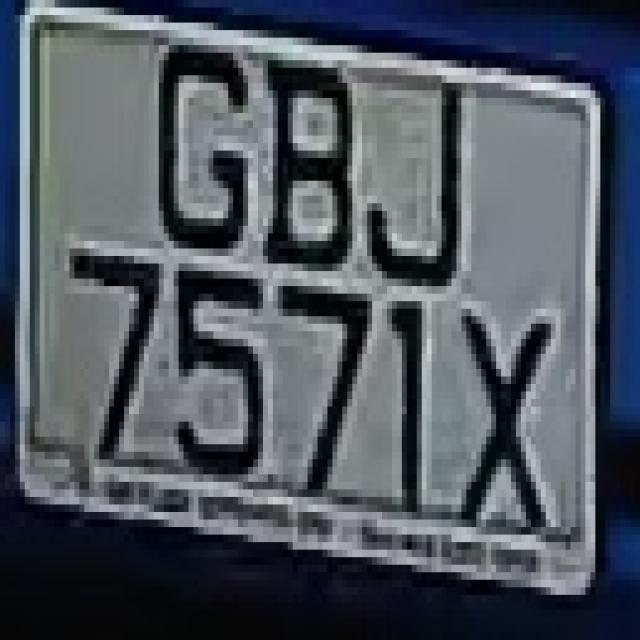1: (377, 286, 447, 550)
5: (169, 248, 273, 482)
7: (54, 203, 164, 504), (273, 248, 382, 497)
B: (233, 60, 367, 286)
G: (144, 23, 263, 271)
J: (357, 52, 481, 308)
X: (456, 271, 566, 557)
